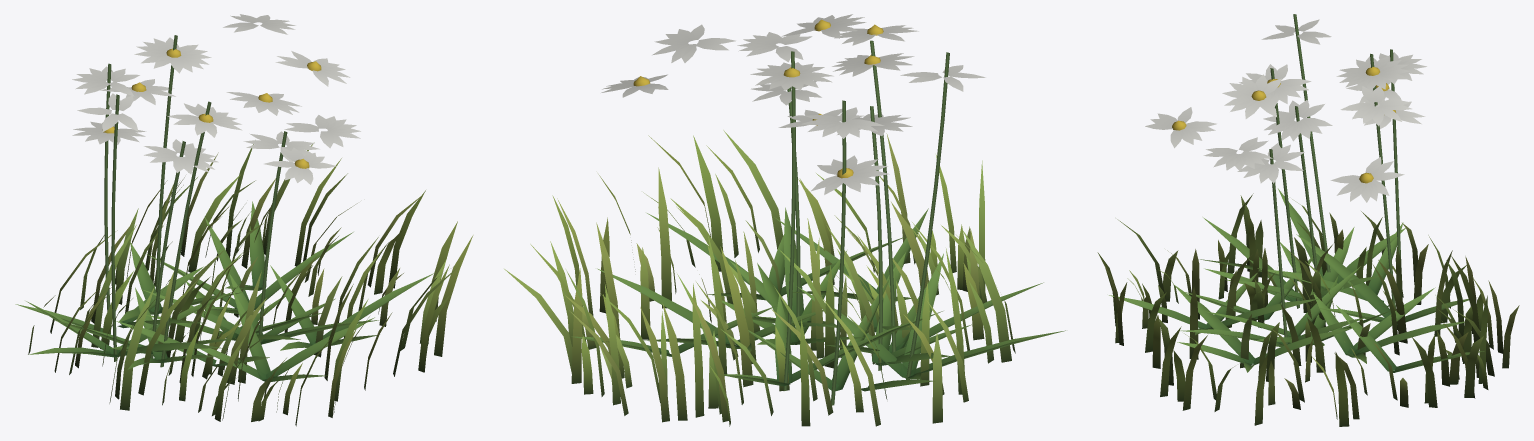
File: eco_flower_daisy_clump_LOD1.glb
3 views of the same model, side by side, from view 1: azimuth 30°, elevation 25°; view 2: azimuth 150°, elevation 25°; view 3: azimuth 270°, elevation 25° (orthographic). The views are drawn at different scales.
Visible parts, largest first — view 1: eco_flower_daisy_clump_LOD1; view 2: eco_flower_daisy_clump_LOD1; view 3: eco_flower_daisy_clump_LOD1.
Part boxes in pixels (x1,y1,x2,y2): eco_flower_daisy_clump_LOD1: (15,14,473,426); eco_flower_daisy_clump_LOD1: (504,14,1065,426); eco_flower_daisy_clump_LOD1: (1097,14,1519,426).
Bounding box in the file's own units: 0.6125 × 0.3965 × 0.5455.
